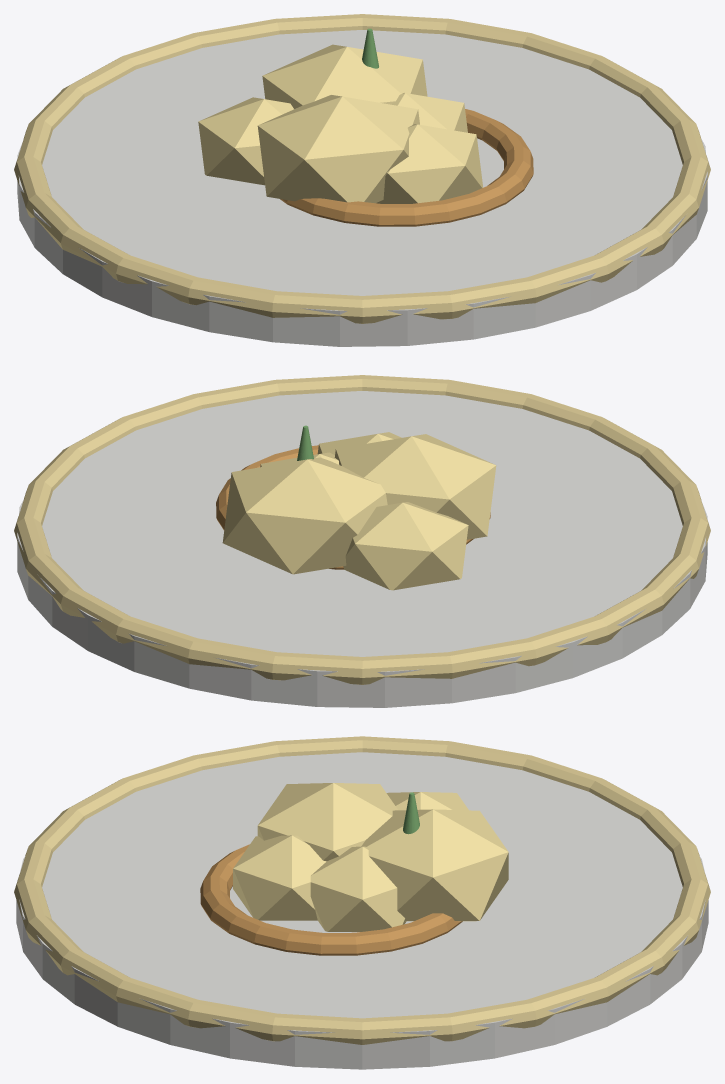
File: dish_grain.glb
3 views of the same model, one above another, from view 1: azimuth 30°, elevation 25°; view 2: azimuth 150°, elevation 25°; view 3: azimuth 270°, elevation 25° (orthographic).
Parts seen in each view (by area): view 1: plate_base, plate_rim, Icosphere.003, sauce_swirl, Icosphere.001, Icosphere.004, Icosphere.002, Icosphere; view 2: plate_base, plate_rim, Icosphere.001, Icosphere.003, Icosphere.002, sauce_swirl, Icosphere.004; view 3: plate_base, plate_rim, Icosphere.001, sauce_swirl, Icosphere.003, Icosphere.004, Icosphere, Icosphere.002.
Part boxes in pixels (x1=…): plate_base: x1=17, y1=30, x2=707, y2=346; plate_rim: x1=14, y1=14, x2=710, y2=323; Icosphere.003: x1=257, y1=95, x2=419, y2=203; sauce_swirl: x1=280, y1=109, x2=533, y2=226; Icosphere.001: x1=262, y1=44, x2=427, y2=108; Icosphere.004: x1=376, y1=124, x2=482, y2=203; Icosphere.002: x1=198, y1=97, x2=293, y2=185; Icosphere: x1=391, y1=93, x2=467, y2=132; plate_base: x1=17, y1=391, x2=707, y2=707; plate_rim: x1=14, y1=375, x2=710, y2=684; Icosphere.001: x1=222, y1=457, x2=387, y2=574; Icosphere.003: x1=334, y1=434, x2=496, y2=539; Icosphere.002: x1=343, y1=502, x2=468, y2=590; sauce_swirl: x1=216, y1=445, x2=490, y2=569; Icosphere.004: x1=317, y1=432, x2=401, y2=454; plate_base: x1=16, y1=752, x2=708, y2=1069; plate_rim: x1=14, y1=736, x2=710, y2=1044; Icosphere.001: x1=361, y1=809, x2=508, y2=921; sauce_swirl: x1=200, y1=844, x2=462, y2=955; Icosphere.003: x1=257, y1=783, x2=397, y2=861; Icosphere.004: x1=233, y1=835, x2=326, y2=920; Icosphere: x1=310, y1=846, x2=406, y2=931; Icosphere.002: x1=386, y1=792, x2=468, y2=810.
Size of the model in its own units: 0.282 by 0.065 by 0.282.
